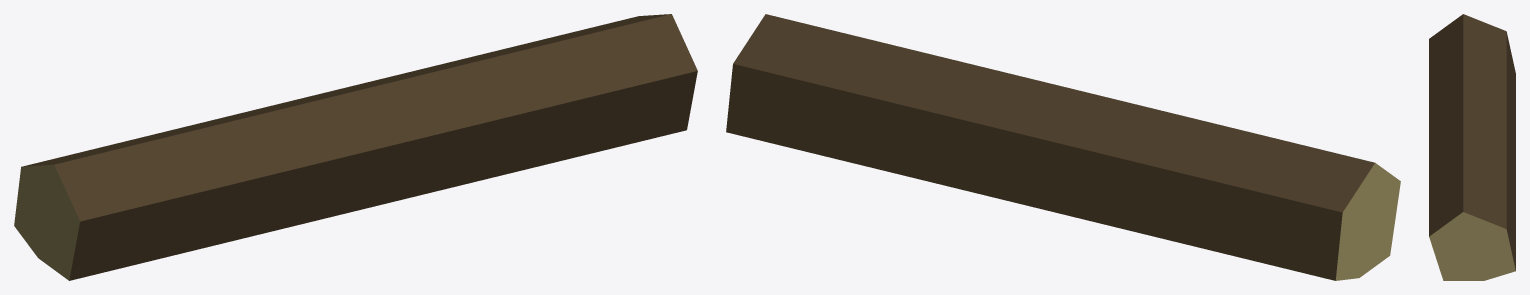
The picture shows the model from 3 angles, left to right: view 1: azimuth 30°, elevation 25°; view 2: azimuth 150°, elevation 25°; view 3: azimuth 270°, elevation 25°; orthographic projection. The views are drawn at different scales.
Visible parts, largest first — view 1: 木材_pCylinder51; view 2: 木材_pCylinder51; view 3: 木材_pCylinder51.
Part boxes in pixels (left/top/right/bottom): 木材_pCylinder51: left=14, top=14, right=697, bottom=280; 木材_pCylinder51: left=726, top=14, right=1400, bottom=280; 木材_pCylinder51: left=1429, top=14, right=1515, bottom=280.
Bounding box in the file's own units: 363 × 59.08 × 67.25.
